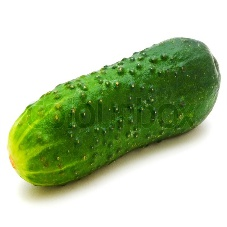cucumber: (8, 37, 223, 187)
